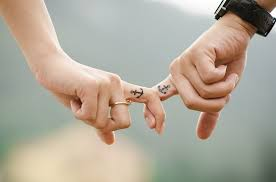hand: (16, 38, 157, 146), (150, 13, 251, 148)
